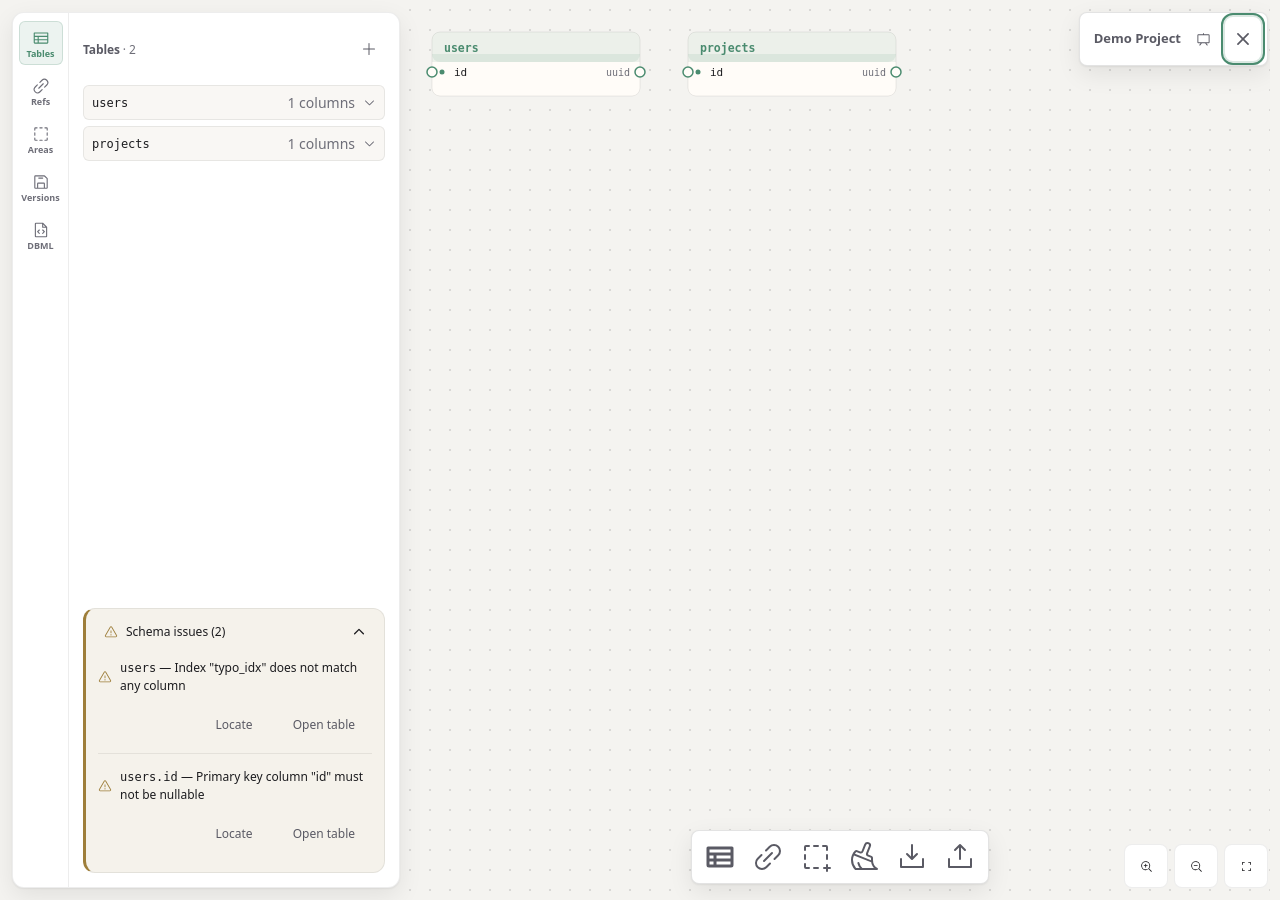
SchemaPage U5 issues in props panel (collapsible, bottom-most) › canvas collapsed: panel toggle hides the list, toolbar pill has no badge (ronde 3)
Click the button "Schema issues (2)" at (176, 632), box [98,619,372,645]
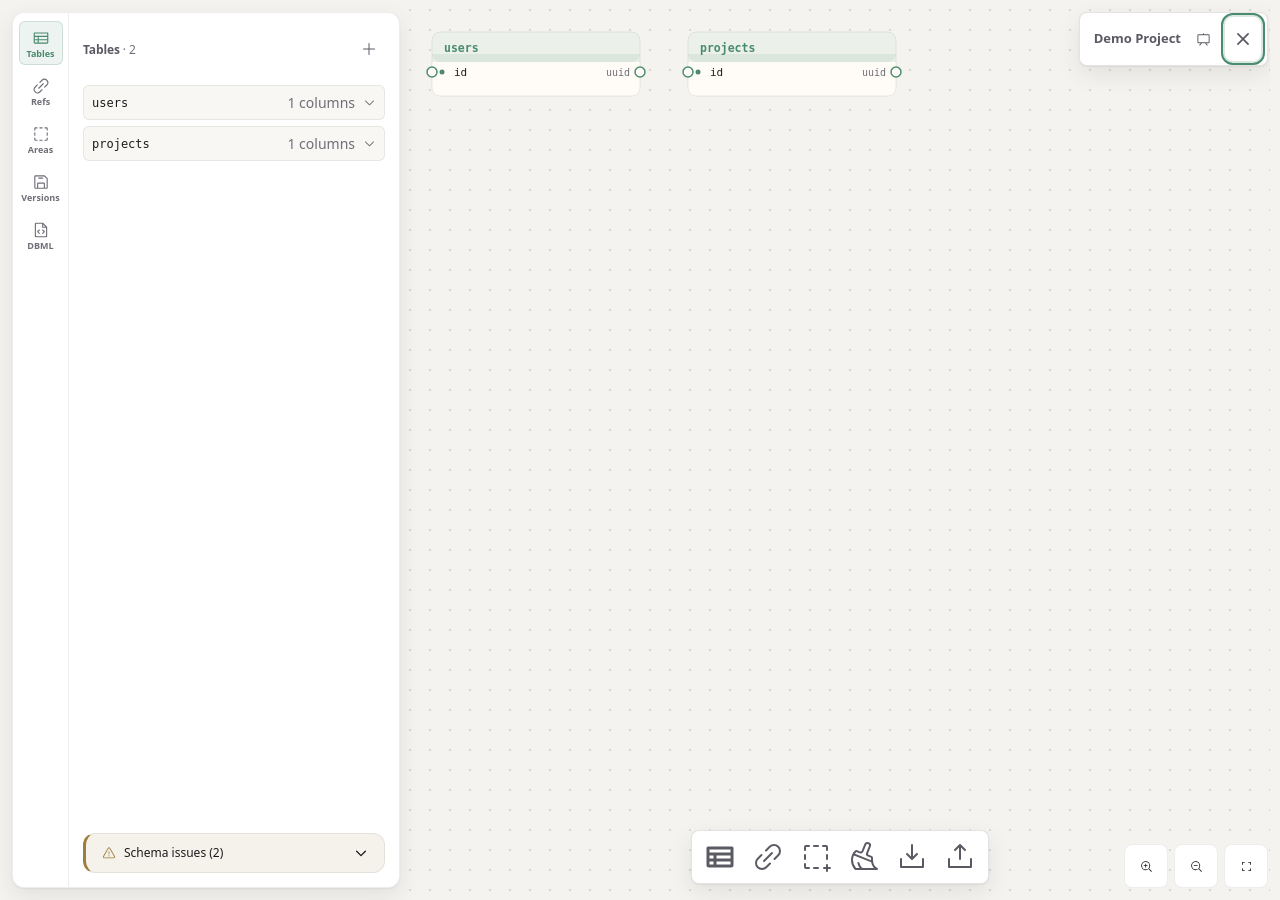
expect the text "Schema issues (2)" is shown: met, box [124,844,223,861]
expect the element with id "erd-panel-issues-list" is gone: met
expect the button "Schema issues (2)" is collapsed: met
# Panel toggle re-expands the same list.
Click the button "Schema issues (2)" at (174, 852), box [96,840,374,866]
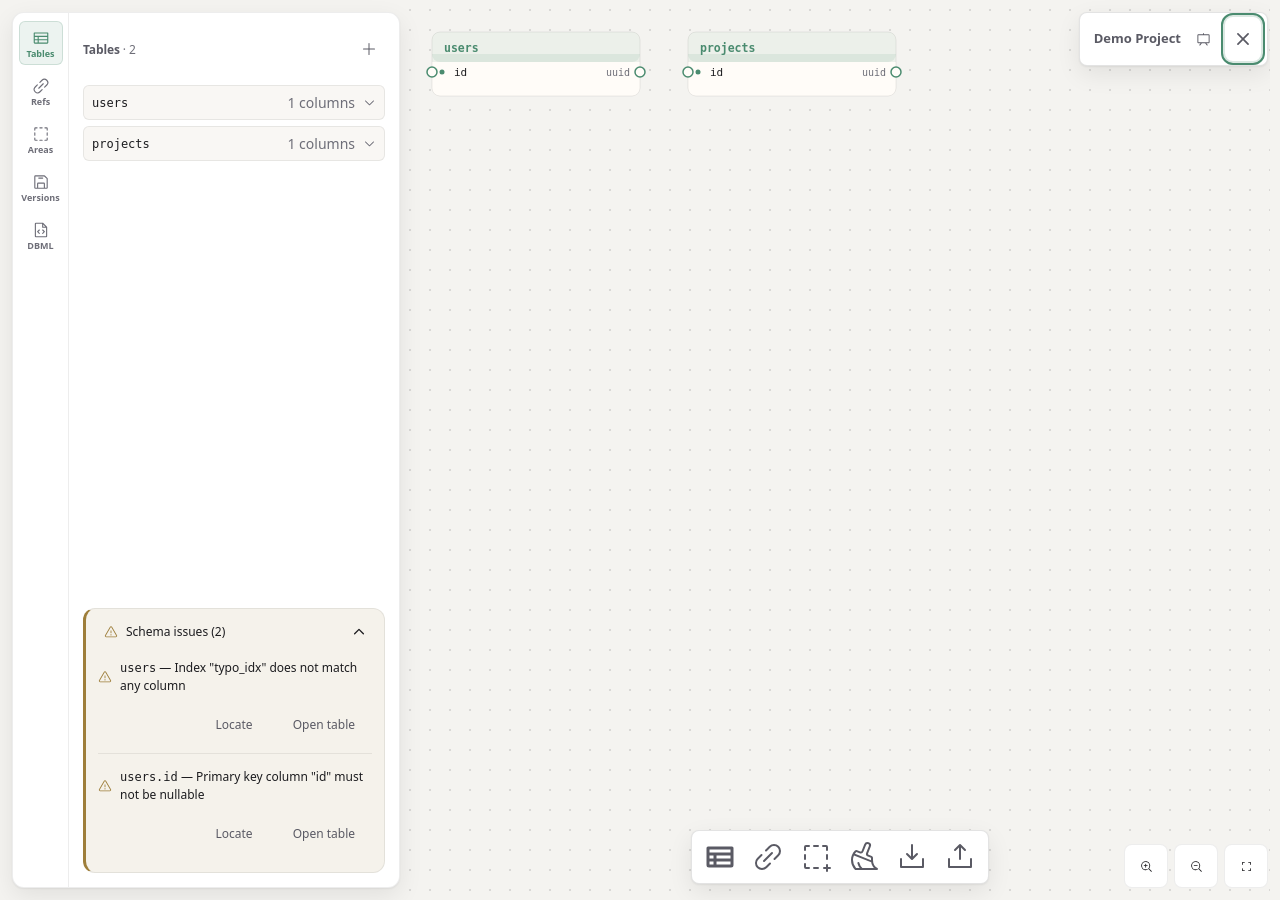
expect the element with id "erd-panel-issues-list" is shown: met, box [98,653,372,862]
expect the button "Schema issues (2)" is expanded: met, box [98,619,372,645]
